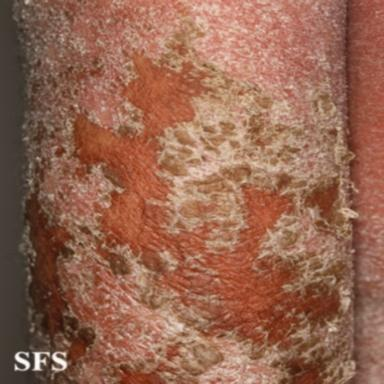Psoriasis: (12, 0, 354, 384), (75, 53, 314, 343)
